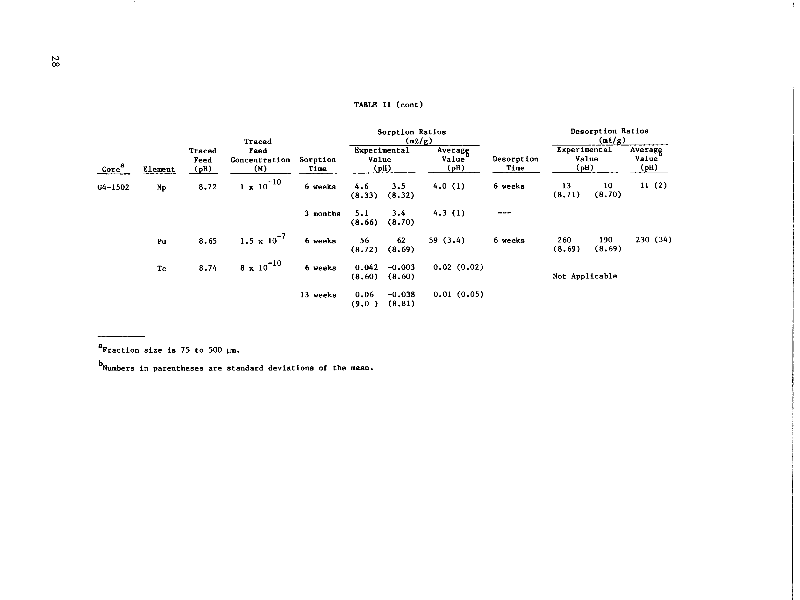table: (94, 125, 690, 372)
